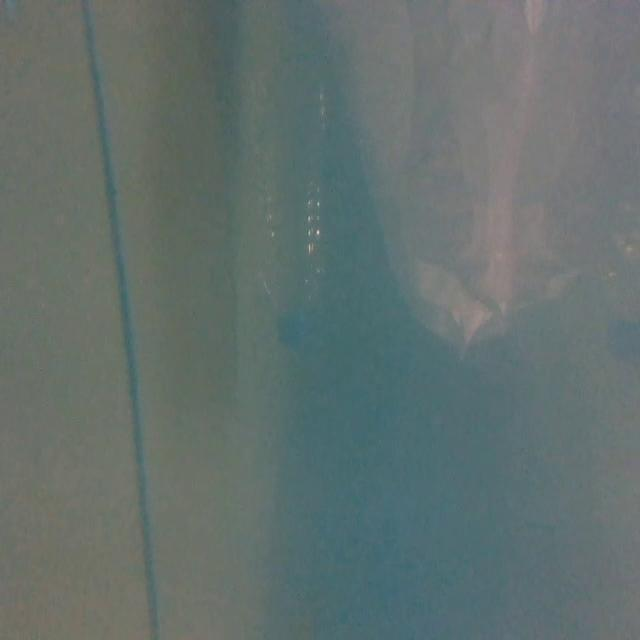plastic bags: (327, 0, 629, 351)
plastic bottle: (239, 71, 331, 349)
